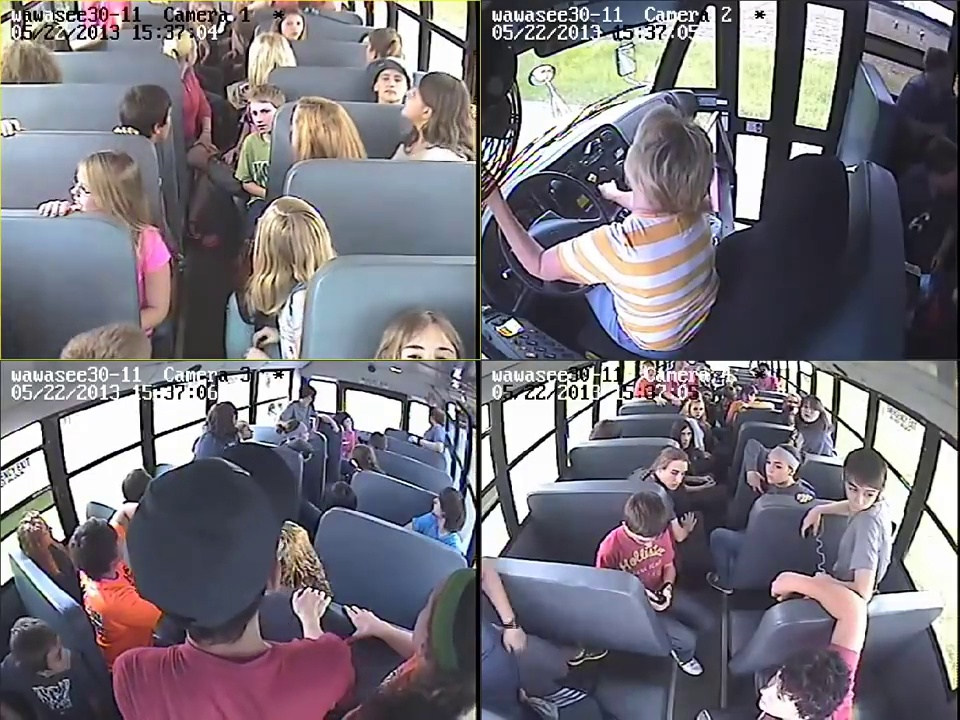face: (756, 657, 809, 719), (398, 332, 460, 360), (401, 84, 440, 123), (68, 168, 103, 207), (844, 482, 882, 512), (658, 457, 690, 492), (376, 62, 404, 101), (248, 99, 277, 132), (764, 453, 787, 481), (429, 497, 454, 519), (673, 424, 695, 448), (800, 402, 820, 423), (280, 18, 302, 37), (691, 400, 705, 418), (742, 389, 756, 403)
